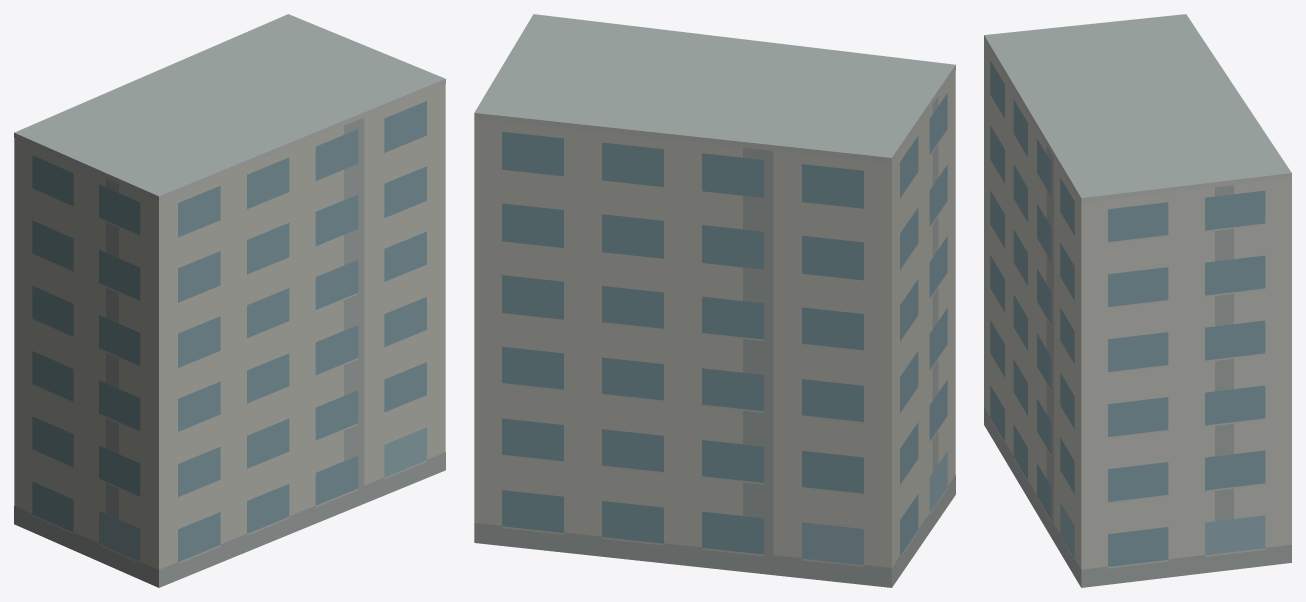
The model's file is survey-upis-32578377.glb.
The picture shows the model from 3 angles, left to right: view 1: azimuth 30°, elevation 25°; view 2: azimuth 150°, elevation 25°; view 3: azimuth 270°, elevation 25°; orthographic projection. The views are drawn at different scales.
Parts seen in each view (by area): view 1: survey-upis-32578377.tmp; view 2: survey-upis-32578377.tmp; view 3: survey-upis-32578377.tmp.
Part boxes in pixels (left/top/right/bottom): survey-upis-32578377.tmp: left=14, top=14, right=445, bottom=587; survey-upis-32578377.tmp: left=474, top=14, right=955, bottom=587; survey-upis-32578377.tmp: left=984, top=14, right=1291, bottom=587.
Bounding box in the file's own units: 18.55 × 18.3 × 13.1.
